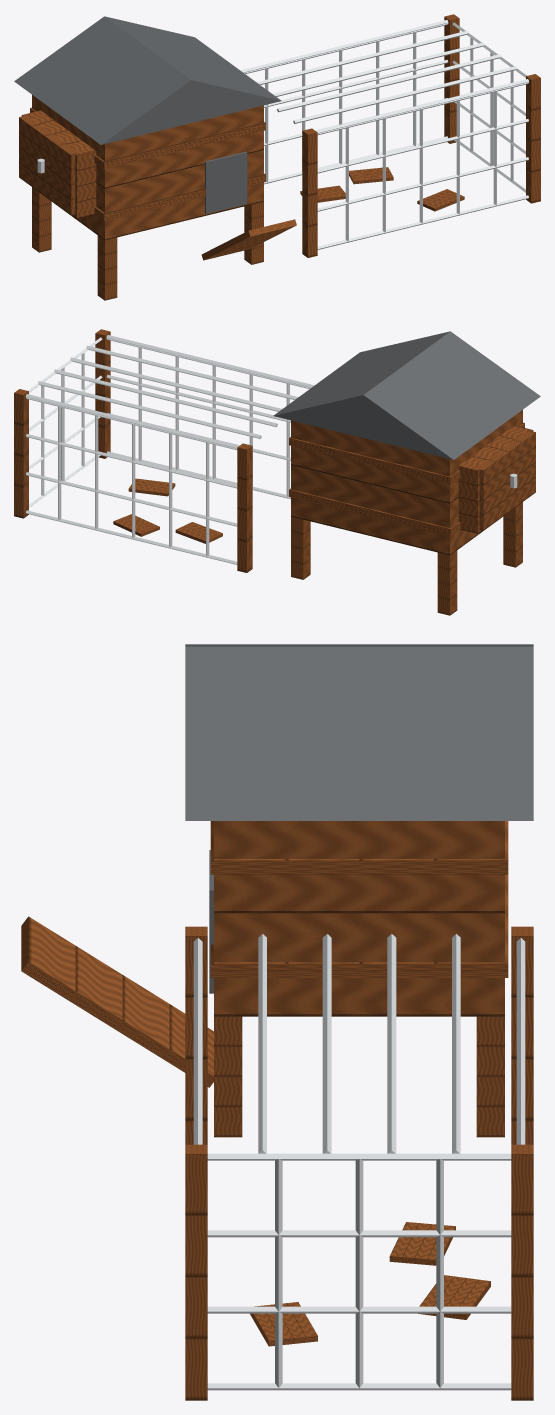
Rendered from allotments-and-community-garden-chicken-coop-with-run-ed83678f__35162.glb.
The picture shows the model from 3 angles, top to bottom: view 1: azimuth 30°, elevation 25°; view 2: azimuth 150°, elevation 25°; view 3: azimuth 270°, elevation 25°; orthographic projection. The views are drawn at different scales.
Visible parts, largest first — view 1: chicken-coop-with-run-timber, chicken-coop-with-run-charcoal, chicken-coop-with-run-galv, hatch/timber; view 2: chicken-coop-with-run-timber, chicken-coop-with-run-charcoal, chicken-coop-with-run-galv, hatch/timber; view 3: chicken-coop-with-run-timber, chicken-coop-with-run-charcoal, chicken-coop-with-run-galv.
Part boxes in pixels (x1=…): chicken-coop-with-run-timber: x1=21, y1=14, x2=540, y2=300; chicken-coop-with-run-charcoal: x1=14, y1=16, x2=281, y2=213; chicken-coop-with-run-galv: x1=240, y1=20, x2=529, y2=249; hatch/timber: x1=19, y1=115, x2=78, y2=215; chicken-coop-with-run-timber: x1=14, y1=329, x2=533, y2=615; chicken-coop-with-run-charcoal: x1=273, y1=331, x2=540, y2=459; chicken-coop-with-run-galv: x1=25, y1=335, x2=314, y2=564; hatch/timber: x1=476, y1=430, x2=535, y2=530; chicken-coop-with-run-timber: x1=21, y1=821, x2=533, y2=1400; chicken-coop-with-run-charcoal: x1=185, y1=644, x2=533, y2=993; chicken-coop-with-run-galv: x1=193, y1=934, x2=525, y2=1390.
Size of the model in its own units: 3.35 by 1.44 by 1.62.
Materials: 3 (1 with a texture image).
